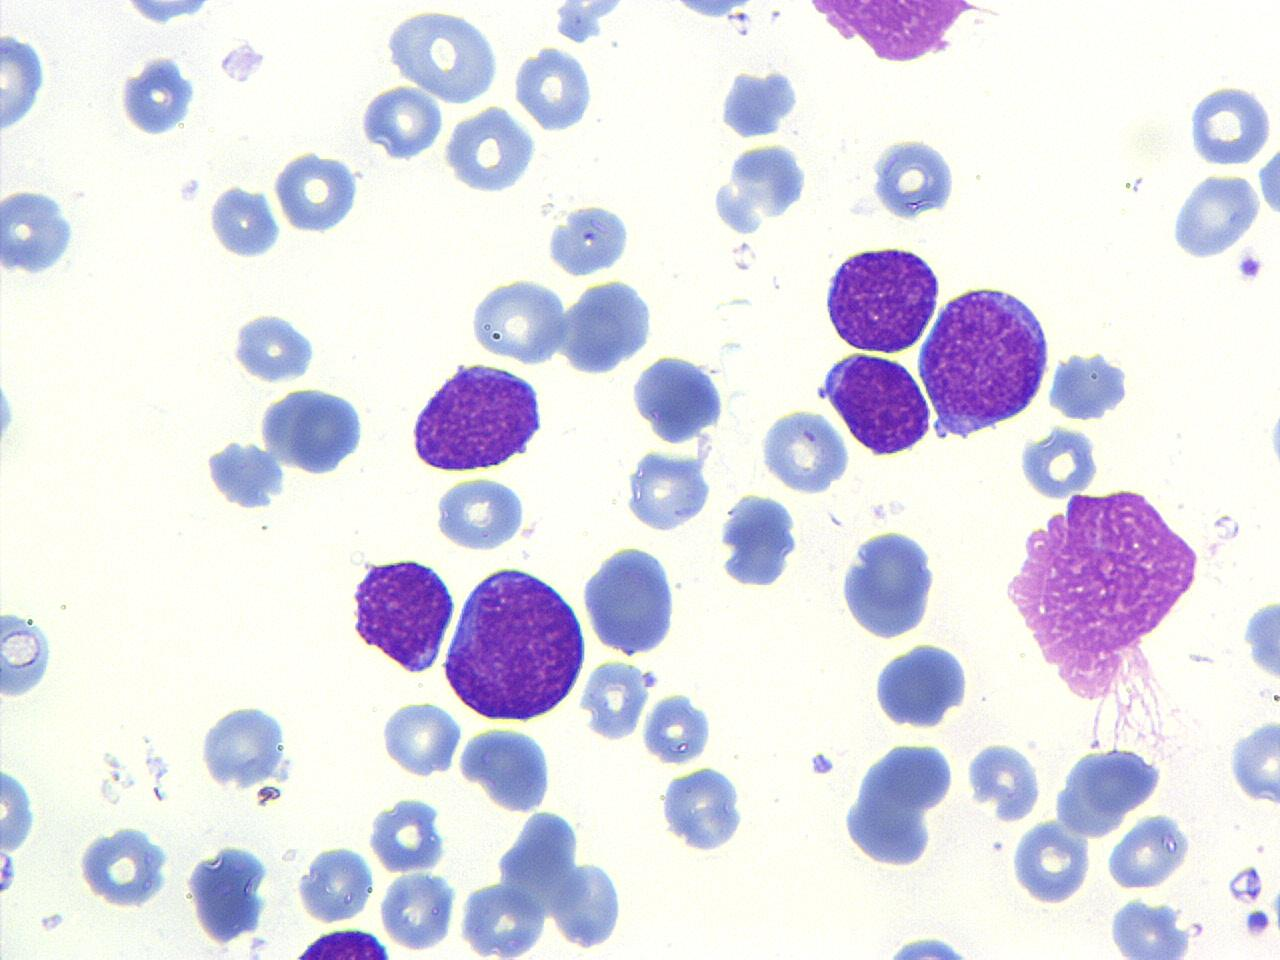Platelets: (868, 132, 963, 224), (358, 81, 444, 163), (228, 309, 319, 385), (964, 739, 1042, 821), (577, 658, 652, 742), (203, 437, 282, 512), (206, 183, 282, 260), (1106, 894, 1196, 960), (639, 690, 715, 766), (718, 71, 780, 141), (876, 932, 988, 960), (750, 69, 800, 129), (215, 38, 269, 84), (552, 4, 598, 46), (1224, 862, 1266, 906), (0, 375, 18, 450), (1234, 247, 1266, 285), (1241, 906, 1273, 940), (0, 845, 19, 899), (1265, 408, 1280, 474), (176, 174, 204, 205), (584, 0, 624, 20), (807, 750, 835, 779), (35, 908, 66, 934), (150, 786, 167, 802)
RBC: (384, 5, 501, 107), (467, 276, 568, 366), (272, 146, 362, 238), (1104, 808, 1192, 894), (432, 474, 530, 552), (376, 868, 462, 954), (1008, 818, 1092, 906), (359, 80, 444, 163), (378, 698, 464, 779), (966, 740, 1042, 824)
WBC: (1000, 479, 1208, 701), (456, 804, 629, 960), (438, 560, 591, 726), (912, 280, 1054, 439), (838, 736, 959, 874), (404, 359, 546, 477), (820, 241, 946, 355), (790, 1, 996, 69), (349, 552, 459, 676), (818, 349, 938, 457), (578, 541, 684, 658), (835, 526, 942, 642), (384, 5, 503, 106), (1048, 742, 1168, 840), (257, 381, 371, 479), (708, 140, 814, 240), (560, 274, 660, 378), (868, 636, 973, 734), (183, 840, 273, 948), (1165, 168, 1267, 262), (630, 350, 727, 448), (467, 275, 568, 368), (440, 102, 540, 196), (458, 722, 556, 816), (655, 762, 750, 858), (622, 440, 716, 536), (758, 404, 852, 498), (196, 700, 290, 792), (717, 490, 800, 590), (867, 134, 959, 224), (272, 148, 364, 237), (77, 824, 171, 910), (1185, 78, 1273, 167), (432, 474, 532, 553), (1, 186, 83, 280), (510, 42, 594, 134), (1, 740, 44, 917), (1102, 811, 1194, 892), (116, 54, 199, 142), (544, 199, 634, 278), (1016, 422, 1104, 501), (227, 310, 316, 386), (1044, 348, 1134, 423), (578, 656, 652, 744), (295, 842, 373, 926), (1, 16, 50, 146), (366, 794, 445, 874), (204, 438, 288, 513), (1106, 894, 1200, 960), (206, 182, 282, 262), (2, 601, 57, 712), (1226, 714, 1280, 810), (280, 924, 403, 959), (860, 929, 998, 959), (1240, 592, 1280, 692), (115, 0, 218, 30), (1256, 124, 1280, 236)
